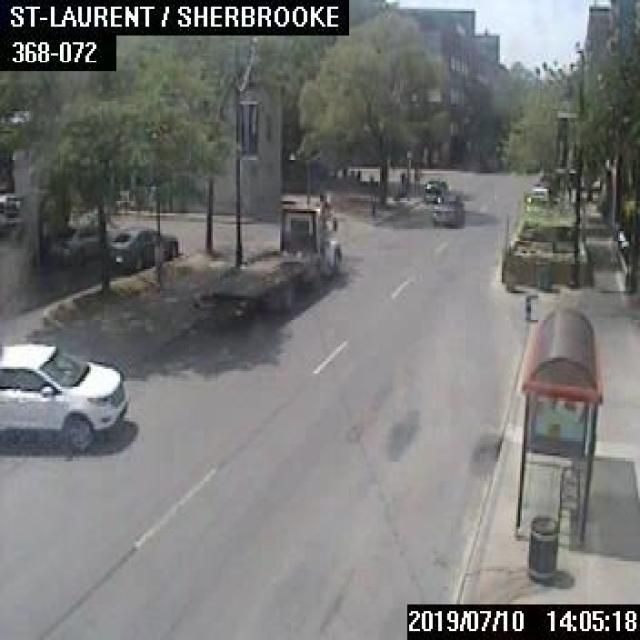vehicle: (193, 202, 340, 318), (0, 336, 129, 446), (107, 223, 176, 271), (43, 226, 108, 264), (430, 192, 464, 224), (423, 175, 448, 199)
